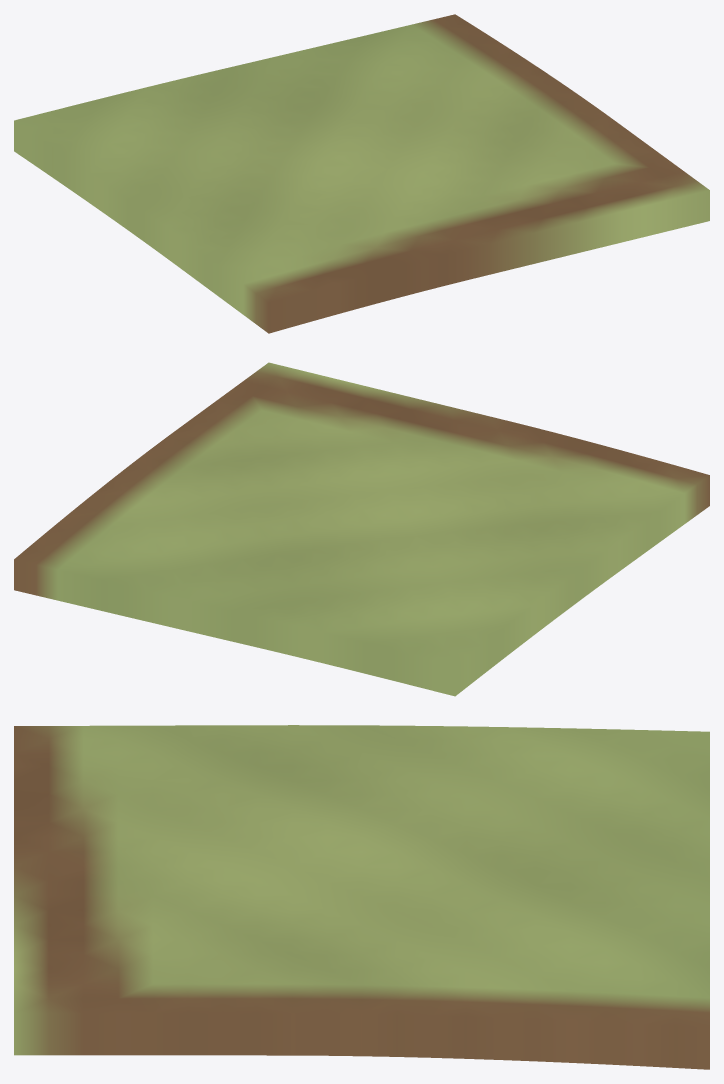
3 views of the same model, one above another, from view 1: azimuth 30°, elevation 25°; view 2: azimuth 150°, elevation 25°; view 3: azimuth 270°, elevation 25° (orthographic). The views are drawn at different scales.
Parts seen in each view (by area): view 1: terrain; view 2: terrain; view 3: terrain.
Part boxes in pixels (x1=…): terrain: x1=14, y1=14, x2=709, y2=333; terrain: x1=14, y1=362, x2=709, y2=696; terrain: x1=14, y1=725, x2=709, y2=1069.
Bounding box in the file's own units: 30 × 2.68 × 30.
